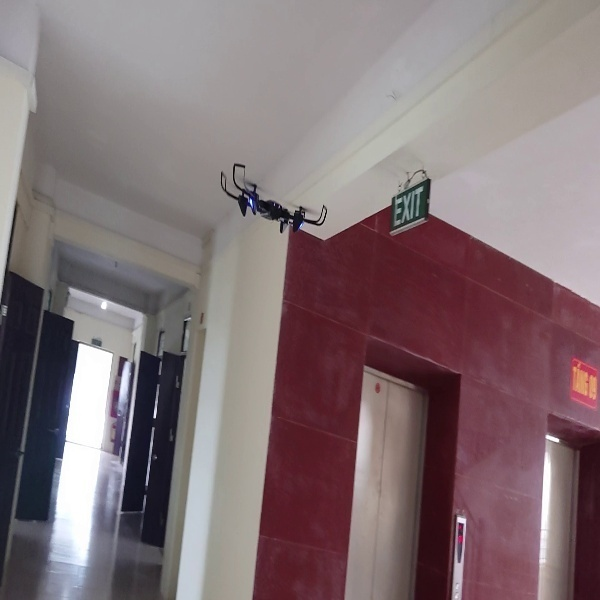drone: (212, 161, 329, 233)
